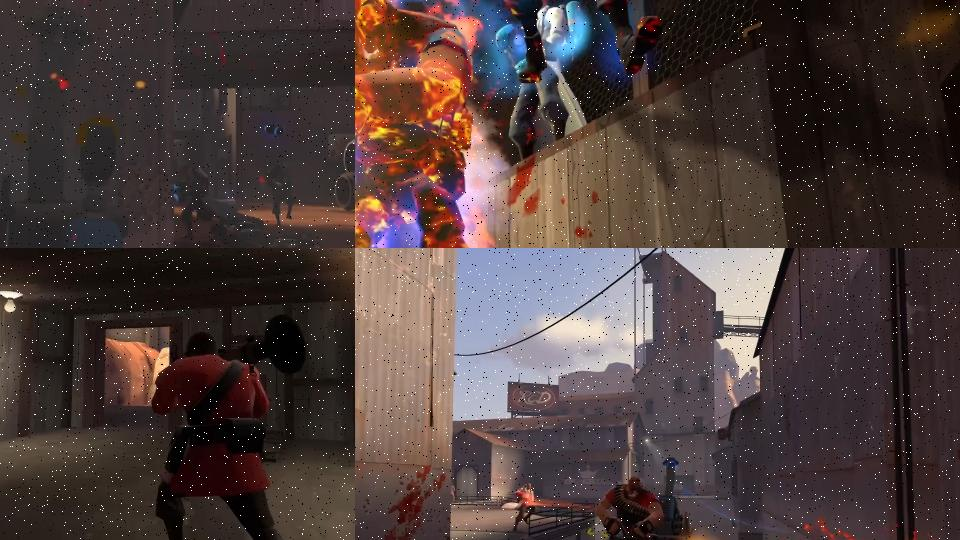Enemy: (145, 314, 316, 540), (355, 0, 474, 248), (494, 0, 586, 159), (593, 476, 684, 540), (172, 160, 241, 241), (263, 162, 301, 230), (512, 483, 538, 532), (449, 482, 457, 504)
